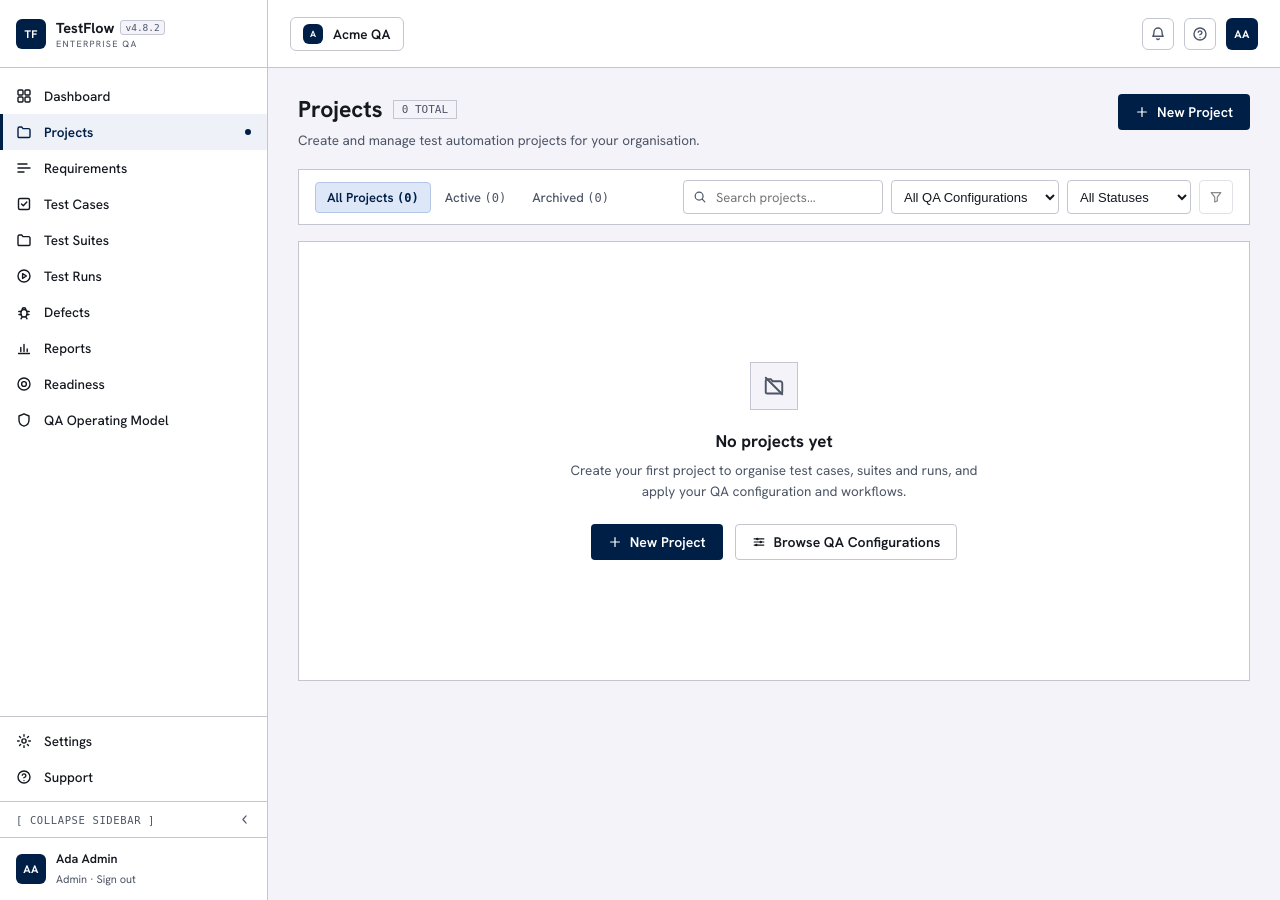
Test: Projects page › Projects — Create Project › opens the modal with the approved fields, the real current QA configuration, and focuses the name
Click the button "New Project" in the row of "0 TOTAL".
click(1184, 112)  # box [1118, 94, 1250, 130]
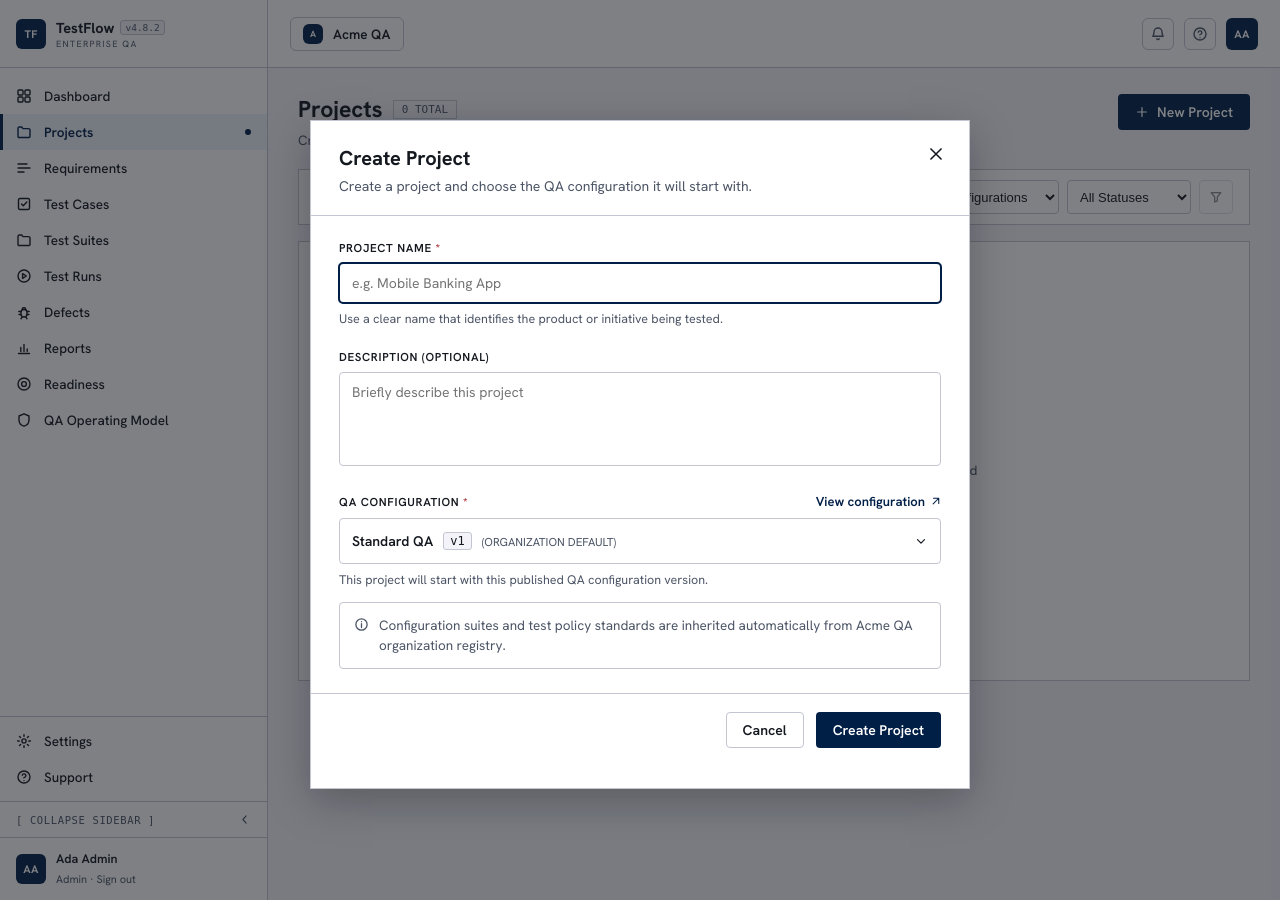
Expected: the text "Create a project and choose the QA configuration" is shown, [339, 177, 752, 195]
Expected: the text box labelled "Description (optional)" is shown, [339, 372, 941, 466]
Expected: the text "Standard QA" is shown, [352, 532, 433, 550]
